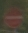No entry: (5, 5, 23, 27)
